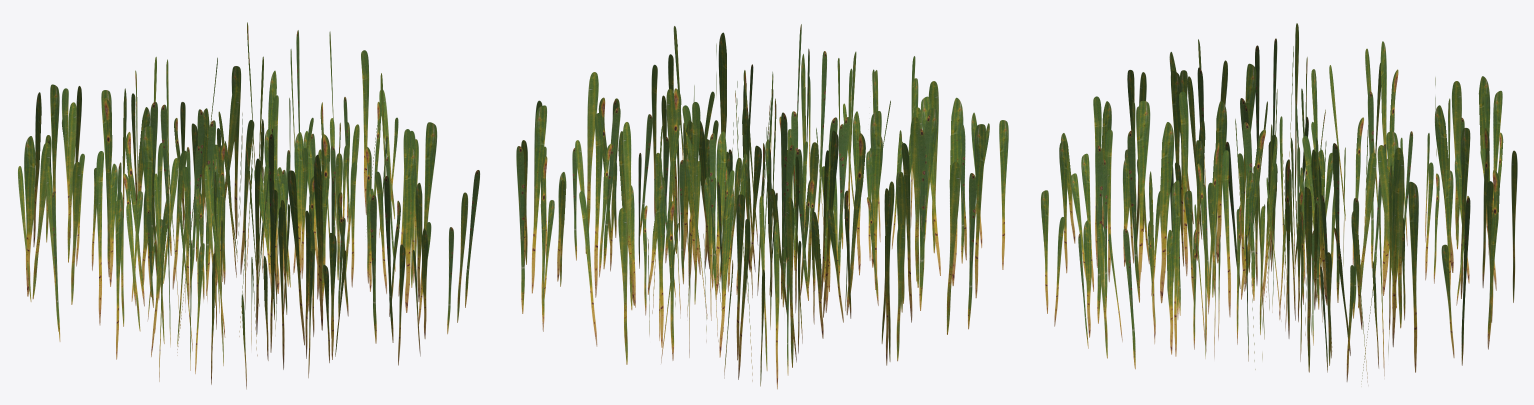
The model's file is grass.glb.
3 views of the same model, side by side, from view 1: azimuth 30°, elevation 25°; view 2: azimuth 150°, elevation 25°; view 3: azimuth 270°, elevation 25° (orthographic). The views are drawn at different scales.
Parts seen in each view (by area): view 1: Object_6; view 2: Object_6; view 3: Object_6.
Boxes of the visible parts, left/top/right/bottom form: Object_6: left=18, top=22, right=479, bottom=389; Object_6: left=516, top=24, right=1008, bottom=389; Object_6: left=1041, top=23, right=1517, bottom=385.
Bounding box in the file's own units: 0.4833 × 0.217 × 0.4912.
1 material, 1 textured.
